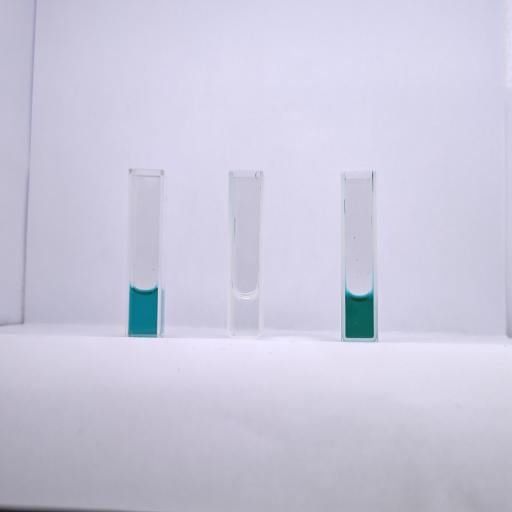cuvette: (338, 168, 380, 343), (124, 168, 166, 338), (226, 168, 264, 340)
liquid: (345, 289, 374, 338), (128, 288, 158, 334), (231, 291, 259, 335)
